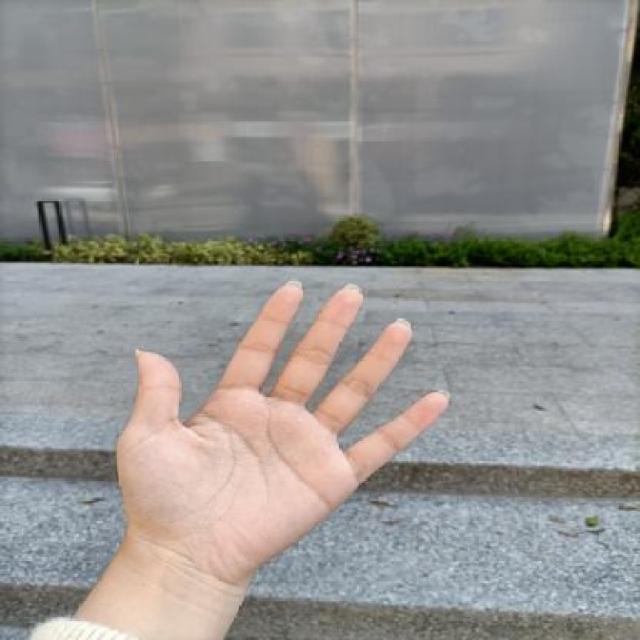bare_hand: (96, 268, 462, 582)
